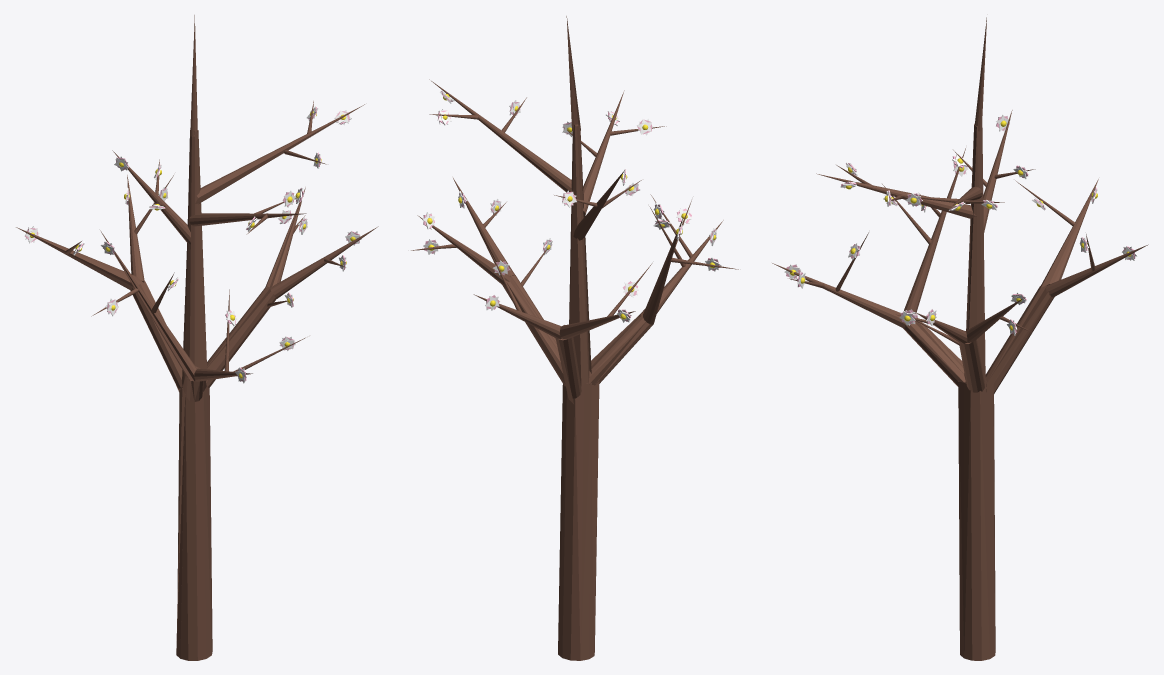
File: no_leaf_spring_tree.glb
3 renders of one model, left to right at view 1: azimuth 30°, elevation 25°; view 2: azimuth 150°, elevation 25°; view 3: azimuth 270°, elevation 25°, orthographic.
Parts seen in each view (by area): view 1: group485413058, group23072150, group544009931, group1912772485, group949954295, group176491950, group945378670, group375694187, group1512549513, group632285337, group420884556, group846614043 (+1 smaller); view 2: group485413058, group23072150, group14720195, group544009931, group1912772485, group176491950, group949954295, group1512549513, group420884556, group846614043, group375694187, group945378670 (+3 smaller); view 3: group485413058, group23072150, group176491950, group14720195, group949954295, group945378670, group1989734025, group544009931, group1512549513, group846614043, group632285337.
Part boxes in pixels (x1=…): group485413058: x1=176, y1=384, x2=212, y2=660; group23072150: x1=182, y1=130, x2=207, y2=385; group544009931: x1=207, y1=286, x2=276, y2=387; group1912772485: x1=195, y1=104, x2=364, y2=203; group949954295: x1=100, y1=230, x2=196, y2=381; group176491950: x1=130, y1=281, x2=182, y2=391; group945378670: x1=16, y1=227, x2=142, y2=290; group375694187: x1=270, y1=226, x2=378, y2=298; group1512549513: x1=189, y1=213, x2=306, y2=226; group632285337: x1=112, y1=150, x2=190, y2=244; group420884556: x1=265, y1=187, x2=305, y2=288; group846614043: x1=127, y1=175, x2=144, y2=282; group485413058: x1=558, y1=381, x2=599, y2=660; group23072150: x1=569, y1=124, x2=591, y2=386; group14720195: x1=589, y1=313, x2=653, y2=385; group544009931: x1=502, y1=275, x2=565, y2=386; group1912772485: x1=429, y1=79, x2=572, y2=192; group176491950: x1=555, y1=325, x2=581, y2=403; group949954295: x1=643, y1=217, x2=683, y2=325; group1512549513: x1=583, y1=90, x2=624, y2=216; group420884556: x1=417, y1=215, x2=511, y2=284; group846614043: x1=473, y1=294, x2=561, y2=339; group375694187: x1=453, y1=178, x2=515, y2=275; group945378670: x1=559, y1=311, x2=635, y2=339; group485413058: x1=958, y1=380, x2=995, y2=660; group23072150: x1=964, y1=123, x2=985, y2=386; group176491950: x1=985, y1=285, x2=1054, y2=394; group14720195: x1=903, y1=317, x2=965, y2=386; group949954295: x1=904, y1=148, x2=965, y2=313; group945378670: x1=1041, y1=179, x2=1098, y2=287; group1989734025: x1=772, y1=263, x2=905, y2=328; group544009931: x1=959, y1=339, x2=984, y2=392; group1512549513: x1=816, y1=173, x2=976, y2=218; group846614043: x1=1046, y1=244, x2=1148, y2=297; group632285337: x1=983, y1=110, x2=1012, y2=233.
Size of the model in its own units: 1.49 by 3.09 by 1.66.
